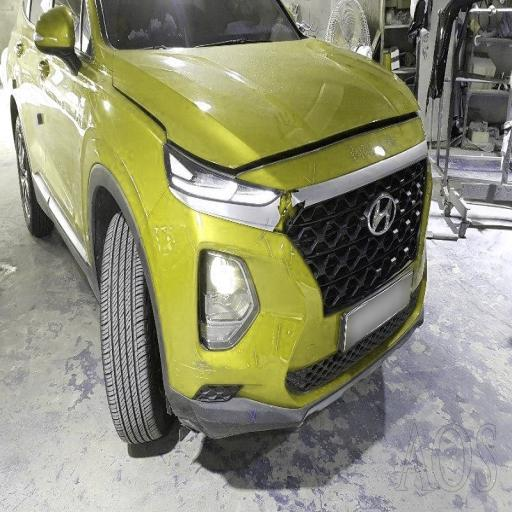broken: (150, 99, 331, 305)
